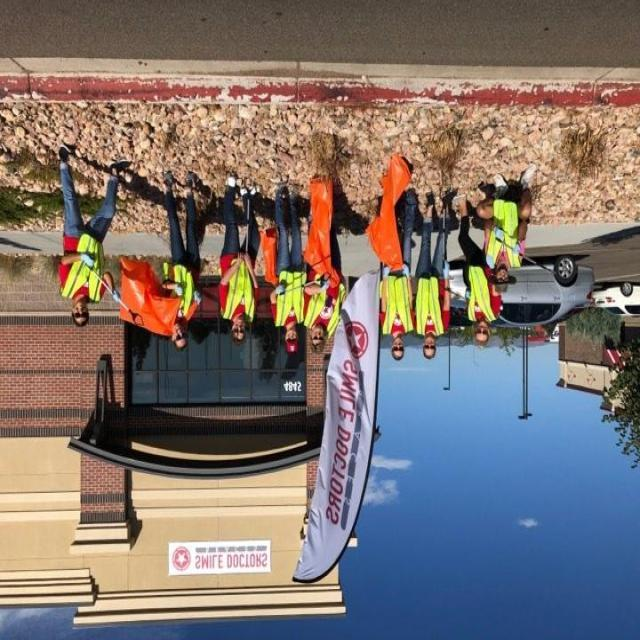Boots: (520, 164, 536, 191), (442, 187, 460, 205), (111, 160, 133, 174), (57, 146, 73, 164), (493, 173, 507, 192), (242, 184, 259, 199), (186, 172, 198, 189), (227, 173, 237, 188), (165, 172, 175, 186), (427, 191, 435, 208)
Glasses: (174, 333, 188, 342), (232, 327, 246, 334), (74, 312, 90, 318), (496, 278, 511, 284), (392, 346, 405, 352), (476, 329, 488, 335), (312, 336, 324, 341), (424, 344, 436, 349)
Gloves: (80, 255, 98, 267), (442, 262, 452, 280), (192, 290, 204, 304), (113, 290, 123, 306), (382, 264, 392, 280), (176, 284, 187, 297), (486, 256, 495, 270), (275, 284, 287, 294), (494, 226, 504, 238), (512, 242, 520, 255), (404, 262, 410, 279)
Vest: (60, 238, 104, 298), (487, 201, 521, 269), (220, 261, 256, 321), (306, 284, 348, 330), (275, 271, 308, 329), (382, 278, 412, 336), (416, 277, 443, 335), (468, 268, 494, 322), (172, 265, 196, 316)
